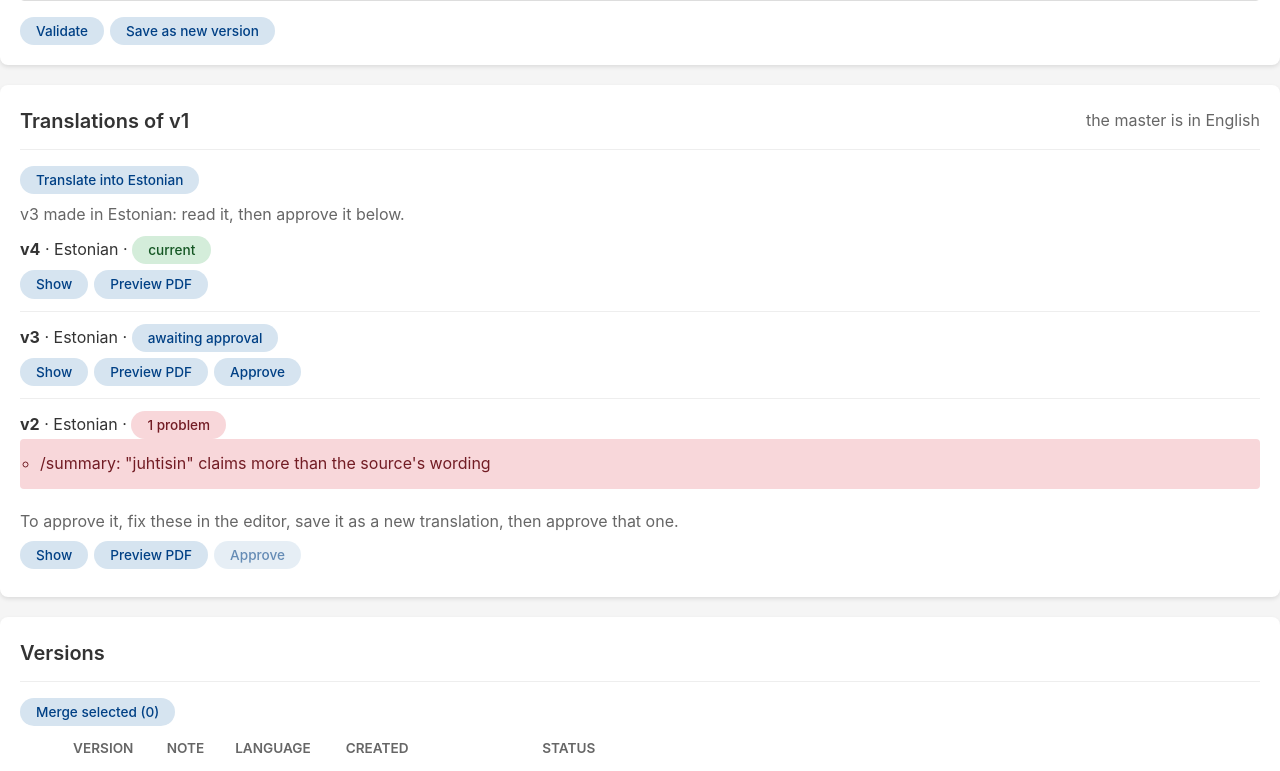
Test: MasiCv › translations › lists the translations of the active master with where each stands, and approves only one without problems
This screenshot has width=1280, height=771.
(page scrolled)
Expected: the text "v3 made in Estonian: read it, then approve it below." is shown, top-left (20, 204), bottom-right (405, 224)
Expected: the list item with test id "translation-2" shows "1 problem", top-left (147, 417), bottom-right (210, 433)
Click the button "Approve" below "awaiting approval".
click(258, 372)  # box top-left (214, 358), bottom-right (301, 386)
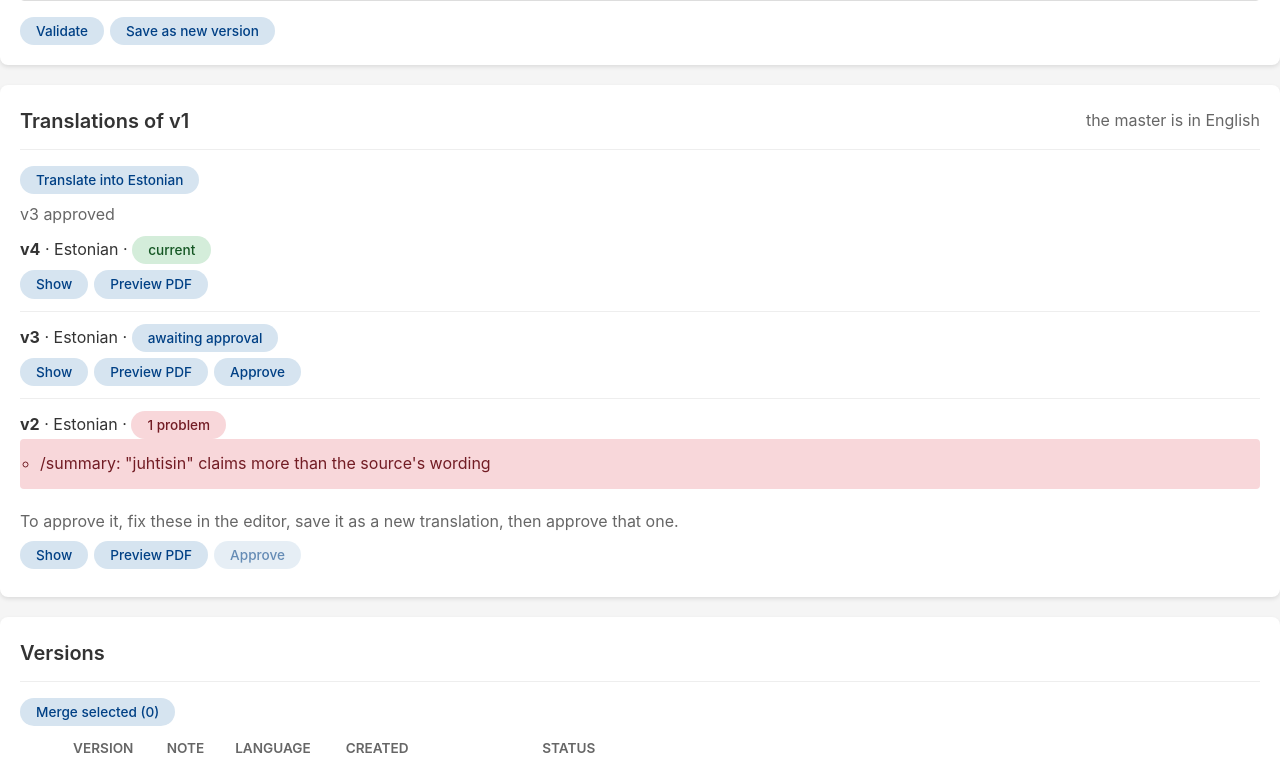
Expected: the text "v3 approved" is shown, top-left (20, 204), bottom-right (115, 224)
